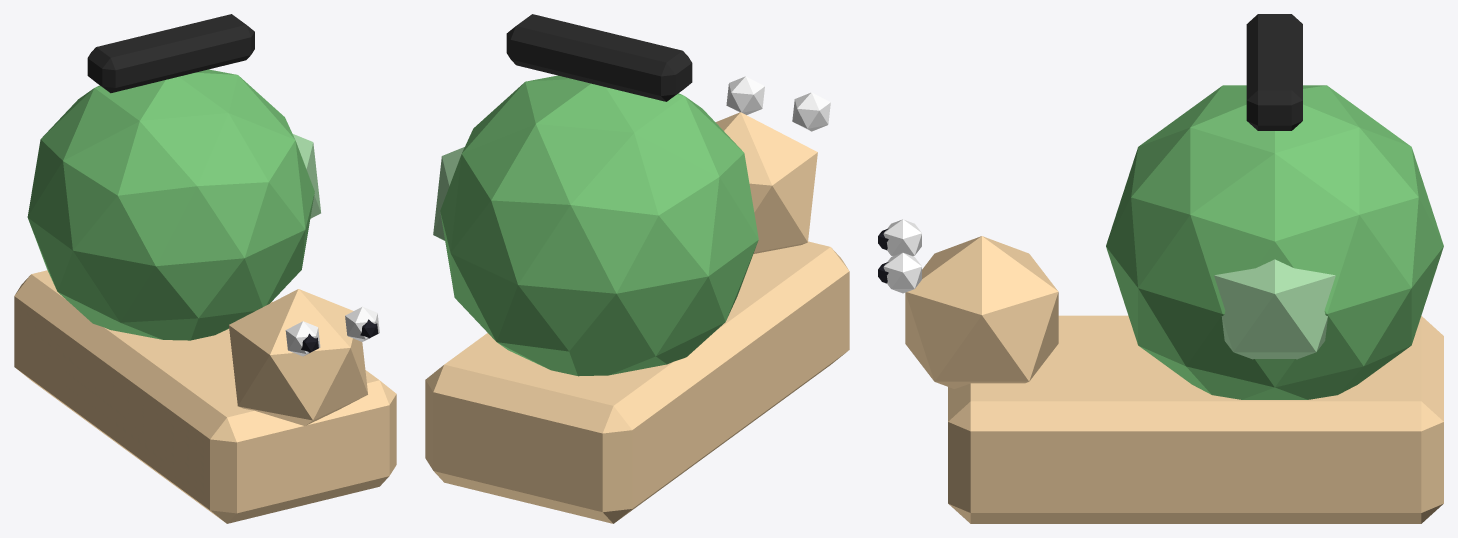
The model's file is FortCore.fbx.
The picture shows the model from 3 angles, left to right: view 1: azimuth 30°, elevation 25°; view 2: azimuth 150°, elevation 25°; view 3: azimuth 270°, elevation 25°; orthographic projection. The views are drawn at different scales.
Visible parts, largest first — view 1: FortCore; view 2: FortCore; view 3: FortCore.
Part boxes in pixels (left/top/right/bottom): FortCore: left=14, top=14, right=396, bottom=523; FortCore: left=425, top=14, right=849, bottom=523; FortCore: left=878, top=14, right=1443, bottom=523.
Bounding box in the file's own units: 9.31 × 12.6 × 15.06.
1 material, 1 textured.
